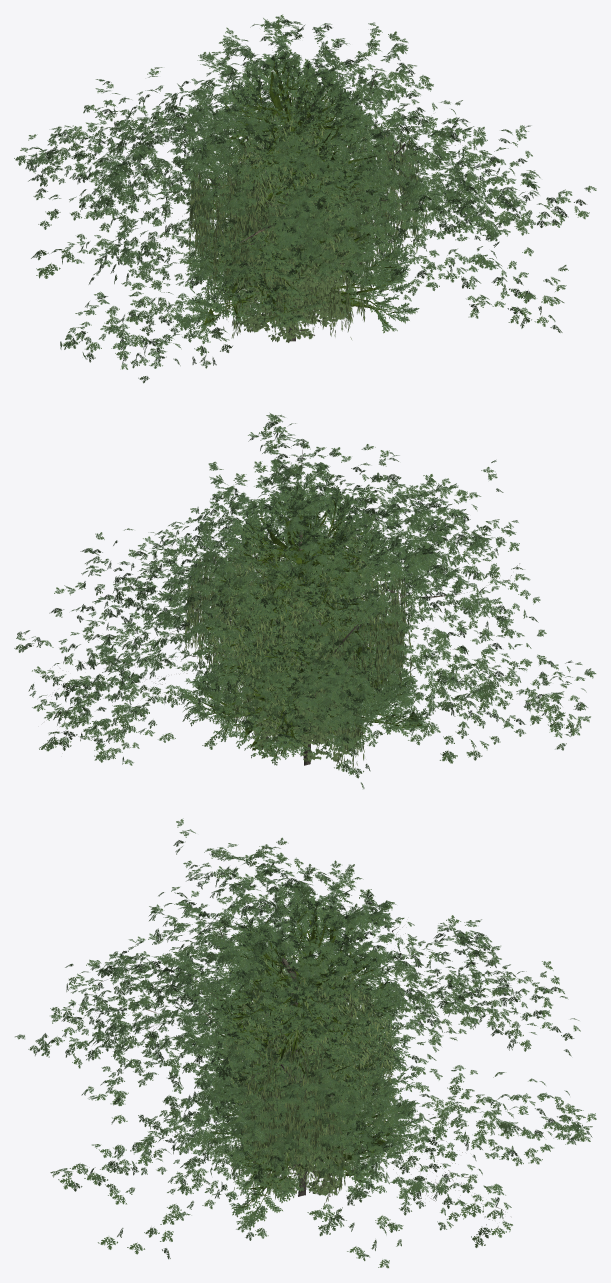
File: vegetation_01.glb
The picture shows the model from 3 angles, top to bottom: view 1: azimuth 30°, elevation 25°; view 2: azimuth 150°, elevation 25°; view 3: azimuth 270°, elevation 25°; orthographic projection. The views are drawn at different scales.
Visible parts, largest first — view 1: prototype_014, prototype_011, prototype_012, prototype_009, prototype_008, prototype_010, prototype_013; view 2: prototype_014, prototype_011, prototype_012, prototype_009, prototype_008, prototype_010, prototype_013; view 3: prototype_014, prototype_011, prototype_012, prototype_009, prototype_008, prototype_013, prototype_010.
Boxes of the visible parts, x1,y1,x2,y2 form: prototype_014: (14, 14, 596, 383); prototype_011: (178, 49, 407, 314); prototype_012: (187, 86, 427, 341); prototype_009: (180, 122, 419, 333); prototype_008: (229, 175, 364, 339); prototype_010: (238, 203, 347, 342); prototype_013: (235, 157, 363, 334); prototype_014: (14, 412, 596, 788); prototype_011: (194, 481, 419, 759); prototype_012: (184, 523, 413, 770); prototype_009: (177, 551, 430, 765); prototype_008: (243, 606, 365, 762); prototype_010: (251, 633, 356, 758); prototype_013: (243, 607, 374, 765); prototype_014: (15, 818, 596, 1268); prototype_011: (195, 895, 419, 1200); prototype_012: (222, 941, 405, 1205); prototype_009: (204, 971, 423, 1227); prototype_008: (236, 1018, 362, 1195); prototype_013: (240, 1015, 353, 1195); prototype_010: (257, 1066, 351, 1195).
Size of the model in its own units: 38.65 by 22.96 by 37.26.
10 materials, 10 textured.
